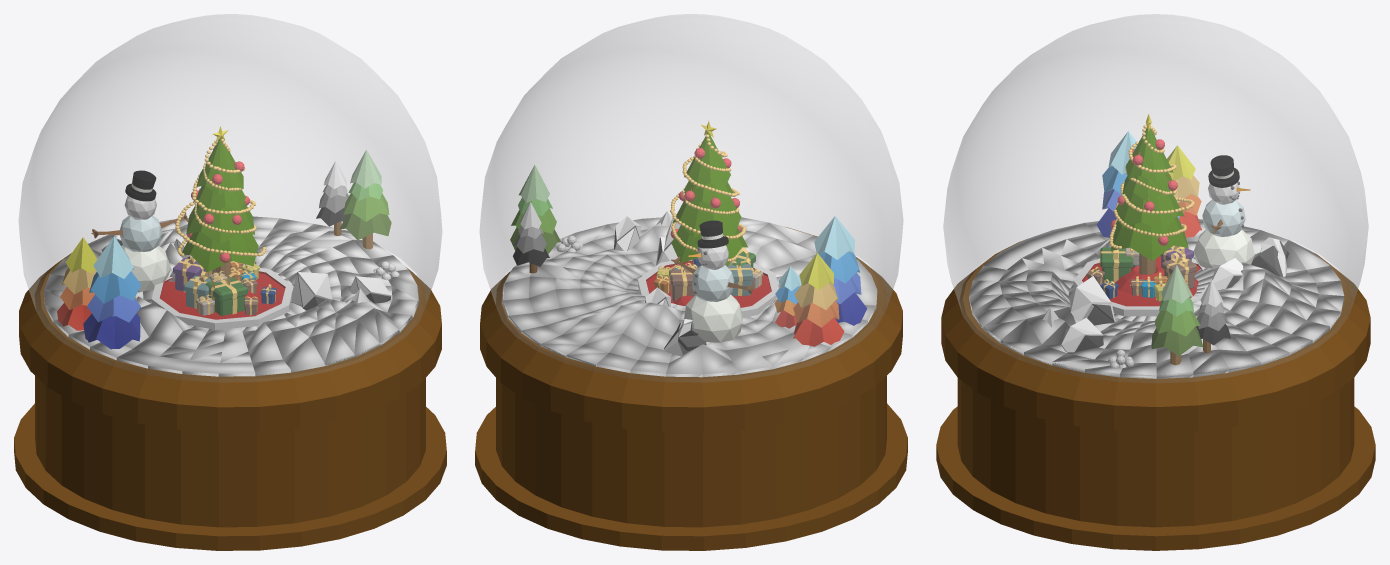
The model's file is globy.gltf.
3 views of the same model, side by side, from view 1: azimuth 30°, elevation 25°; view 2: azimuth 150°, elevation 25°; view 3: azimuth 270°, elevation 25° (orthographic).
Visible parts, largest first — view 1: Sphere, Cylinder.002, Circle, Circle.1007, Cone.021, Cylinder.001, Cylinder.004, Cone.010, Cone.016, Icosphere.015, Cube.016, Icosphere.017 (+2 smaller); view 2: Sphere, Cylinder.002, Circle, Circle.1007, Cylinder.001, Cone.010, Cone.021, Cylinder.004, Cone.016, Icosphere.016, Icosphere.017, Cube.002 (+1 smaller); view 3: Sphere, Cylinder.002, Circle, Circle.1007, Cylinder.001, Cylinder.004, Cone.021, Cone.010, Icosphere.015, Cone.016, Icosphere.017, Icosphere.016 (+3 smaller).
Part boxes in pixels (box(x1,y1,x2,y2)): Sphere: box(18, 14, 442, 382); Cylinder.002: box(14, 236, 446, 550); Circle: box(44, 216, 419, 376); Circle.1007: box(151, 126, 293, 329); Cone.021: box(83, 236, 141, 349); Cylinder.001: box(91, 170, 188, 292); Cylinder.004: box(339, 149, 391, 249); Cone.010: box(57, 237, 97, 330); Cone.016: box(316, 161, 348, 235); Icosphere.015: box(291, 272, 332, 310); Cube.016: box(205, 276, 247, 315); Icosphere.017: box(349, 276, 391, 303); Sphere: box(479, 14, 903, 382); Cylinder.002: box(475, 227, 907, 550); Circle: box(502, 214, 877, 377); Circle.1007: box(638, 121, 778, 317); Cylinder.001: box(671, 220, 754, 342); Cone.010: box(793, 253, 844, 346); Cone.021: box(814, 216, 867, 325); Cylinder.004: box(510, 165, 560, 254); Cone.016: box(513, 202, 549, 273); Icosphere.016: box(664, 319, 706, 356); Icosphere.017: box(614, 216, 640, 250); Cube.002: box(669, 265, 695, 301); Sphere: box(943, 14, 1368, 382); Cylinder.002: box(936, 241, 1375, 550); Circle: box(969, 219, 1344, 378); Circle.1007: box(1073, 114, 1207, 316); Cylinder.001: box(1194, 155, 1254, 268); Cylinder.004: box(1151, 265, 1203, 365); Cone.021: box(1096, 131, 1136, 237); Cone.010: box(1167, 145, 1201, 237); Icosphere.015: box(1070, 276, 1115, 325); Cone.016: box(1196, 279, 1230, 353); Icosphere.017: box(1061, 317, 1103, 352); Icosphere.016: box(1251, 237, 1289, 276).
Size of the model in its own units: 541 by 588 by 550.
